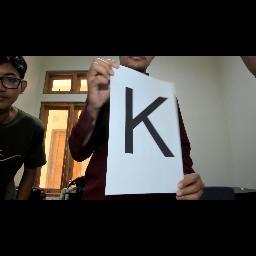k: (117, 78, 179, 168)
